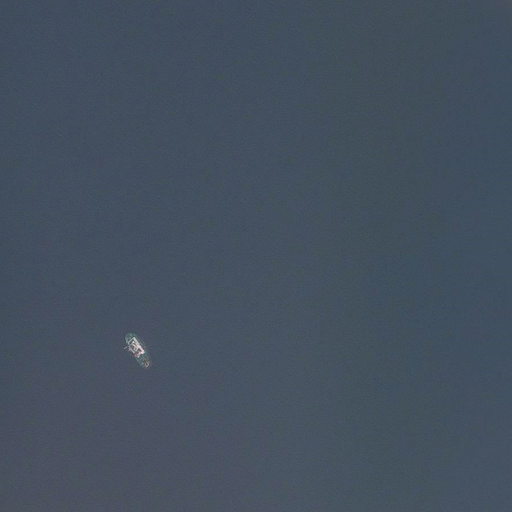ship: (125, 334, 146, 363)
